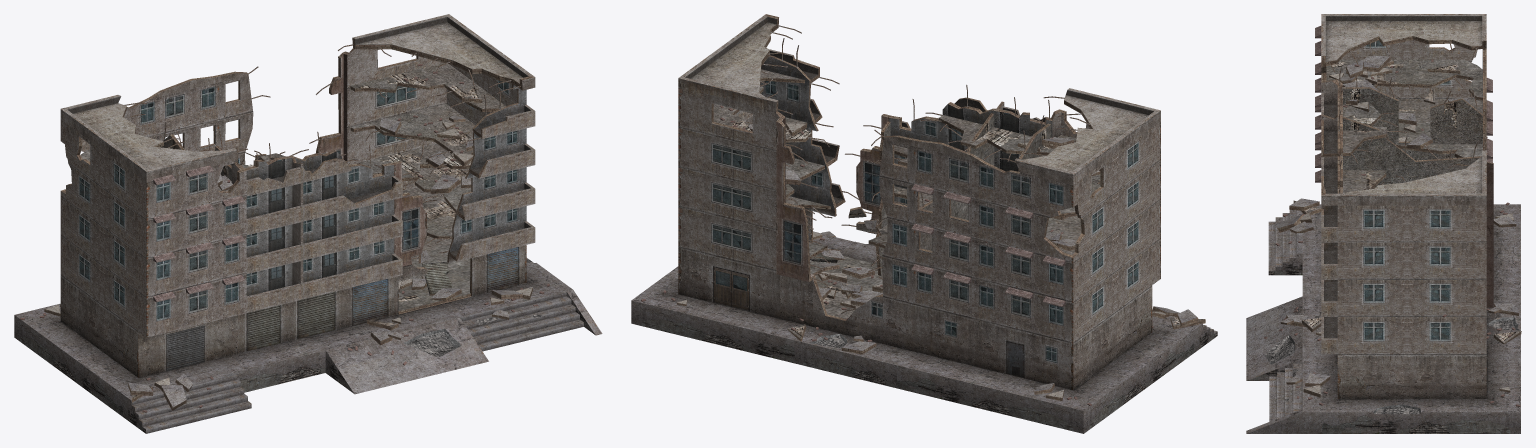
Rendered from buildings_24_ruin.FBX.
3 renders of one model, left to right at view 1: azimuth 30°, elevation 25°; view 2: azimuth 150°, elevation 25°; view 3: azimuth 270°, elevation 25°, orthographic. The views are drawn at different scales.
Visible parts, largest first — view 1: Cylinder025; view 2: Cylinder025; view 3: Cylinder025.
Boxes of the visible parts, <box> form: Cylinder025: <box>14,14,602,433</box>; Cylinder025: <box>631,14,1217,433</box>; Cylinder025: <box>1246,14,1521,433</box>.
Size of the model in its own units: 4013 by 2240 by 2021.
Materials: 1 (1 with a texture image).
